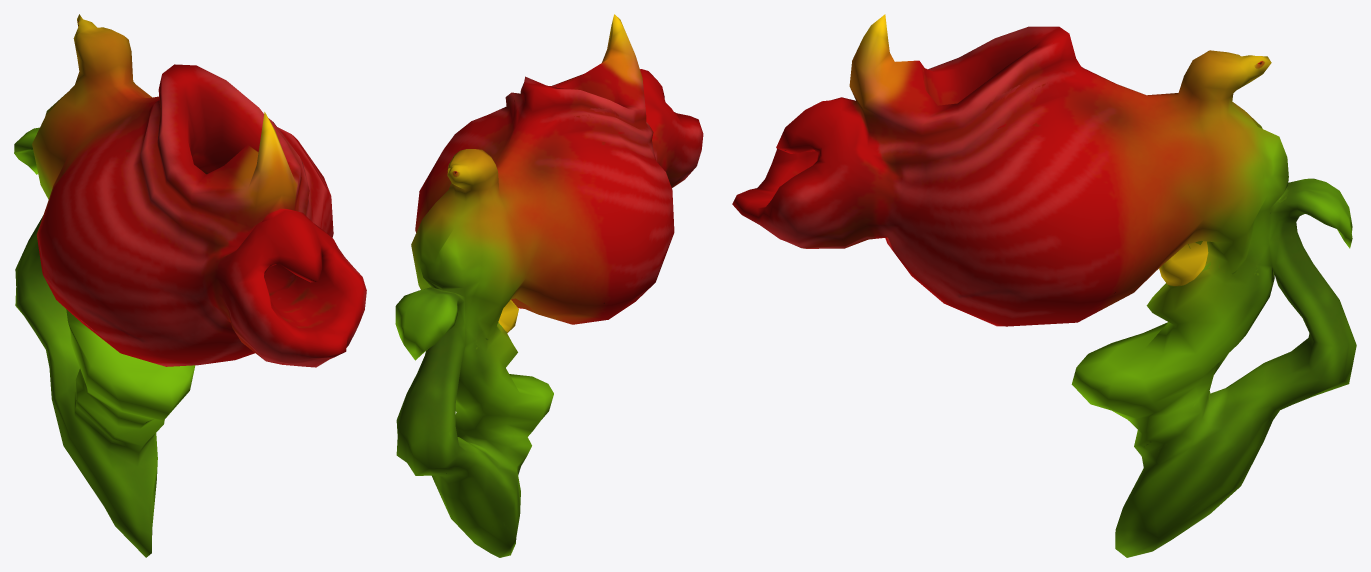
The model's file is PeeShooter02.fbx.
The picture shows the model from 3 angles, left to right: view 1: azimuth 30°, elevation 25°; view 2: azimuth 150°, elevation 25°; view 3: azimuth 270°, elevation 25°; orthographic projection. The views are drawn at different scales.
Parts seen in each view (by area): view 1: RetopoFlow.001; view 2: RetopoFlow.001; view 3: RetopoFlow.001.
Boxes of the visible parts, left/top/right/bottom form: RetopoFlow.001: left=14, top=14, right=366, bottom=557; RetopoFlow.001: left=395, top=14, right=703, bottom=557; RetopoFlow.001: left=732, top=14, right=1356, bottom=557.
Bounding box in the file's own units: 119 × 233 × 243.
1 material, 1 textured.
